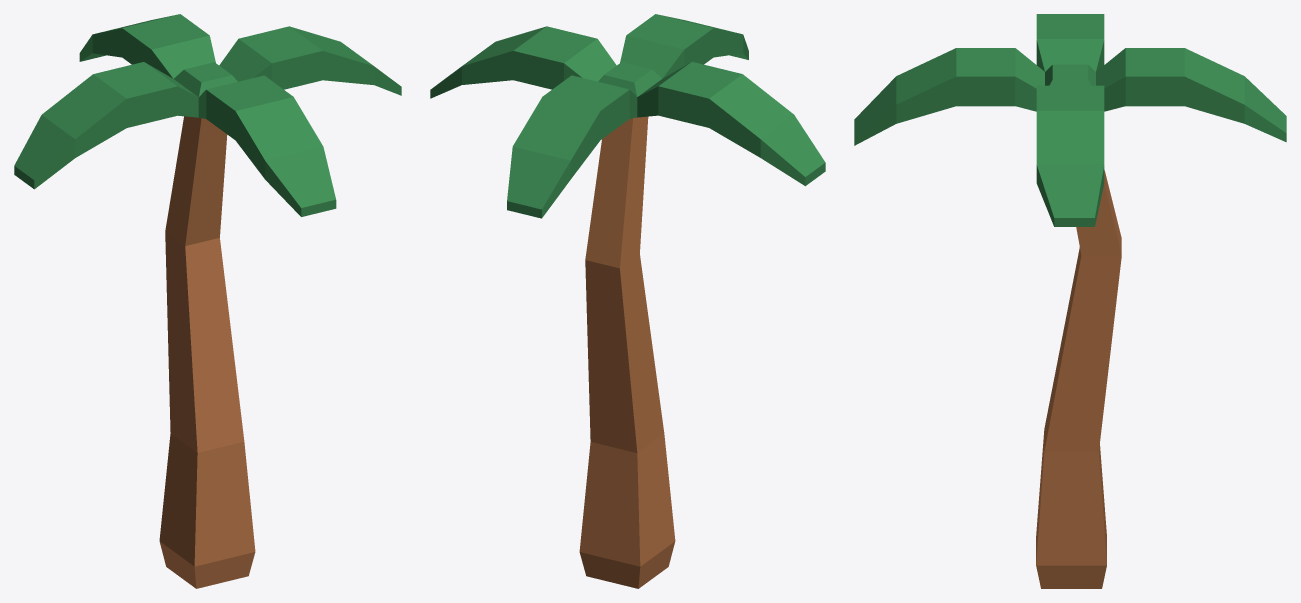
Rendered from palm_long.glb.
3 renders of one model, left to right at view 1: azimuth 30°, elevation 25°; view 2: azimuth 150°, elevation 25°; view 3: azimuth 270°, elevation 25°, orthographic.
Parts seen in each view (by area): view 1: Group 30, Group 28; view 2: Group 30, Group 28; view 3: Group 30, Group 28.
Boxes of the visible parts, <box> form: Group 30: <box>14,14,401,216</box>; Group 28: <box>159,116,255,588</box>; Group 30: <box>430,14,825,218</box>; Group 28: <box>579,116,675,588</box>; Group 30: <box>854,14,1286,226</box>; Group 28: <box>1036,170,1121,588</box>.
Size of the model in its own units: 15.44 by 20.23 by 15.44.
